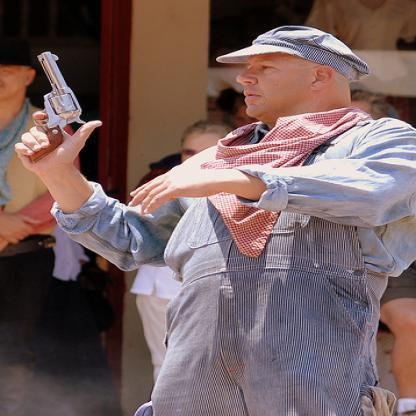pistol: (22, 51, 86, 165)
